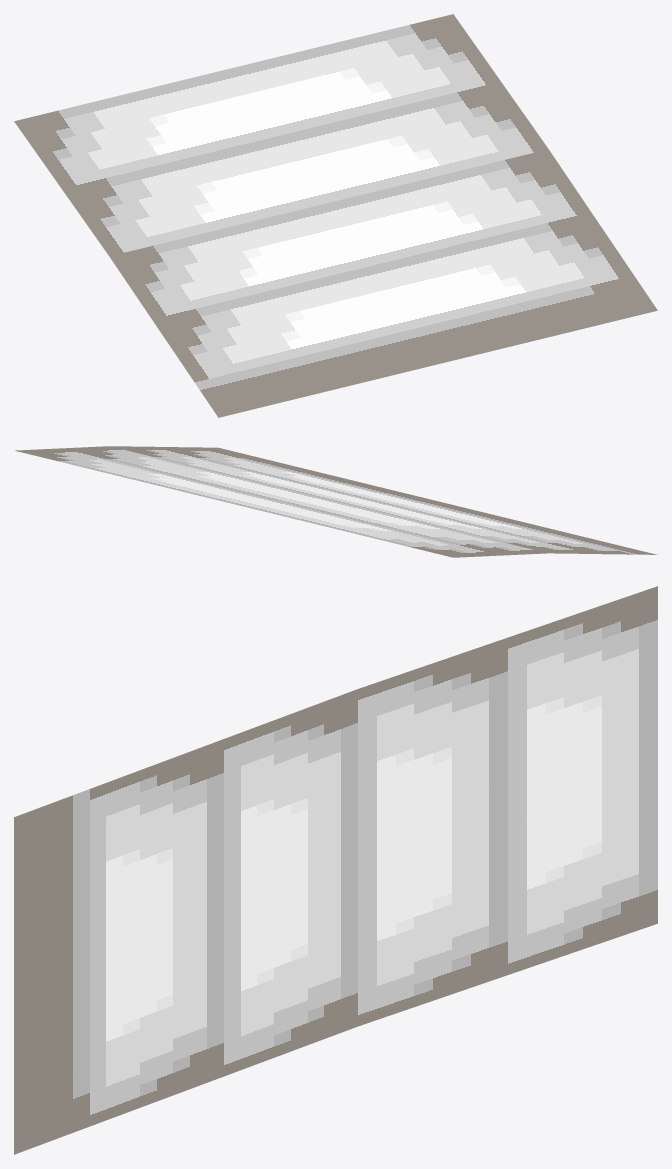
The picture shows the model from 3 angles, top to bottom: view 1: azimuth 30°, elevation 25°; view 2: azimuth 150°, elevation 25°; view 3: azimuth 270°, elevation 25°; orthographic projection. The views are drawn at different scales.
Size of the model in its own units: 1 by 0.3193 by 0.8062.
1 material, 1 textured.
